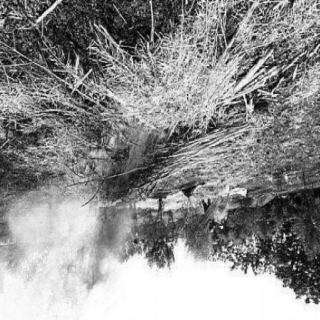Fire: (68, 124, 174, 206)
